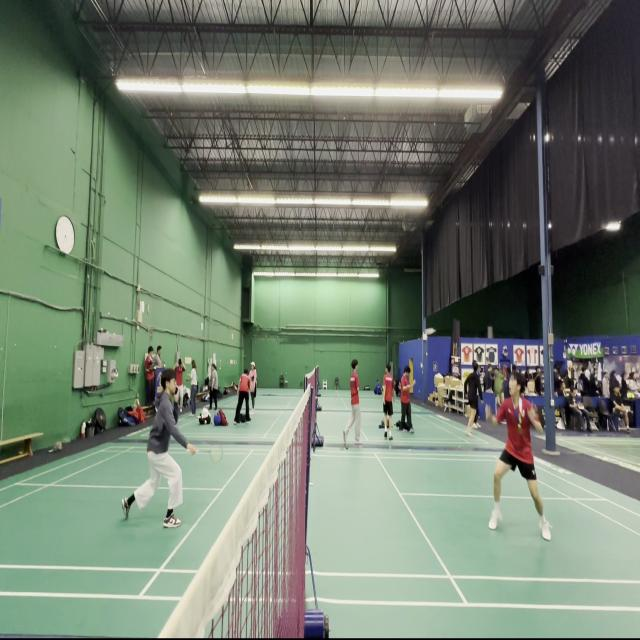shuttlecock: (425, 328, 436, 335)
